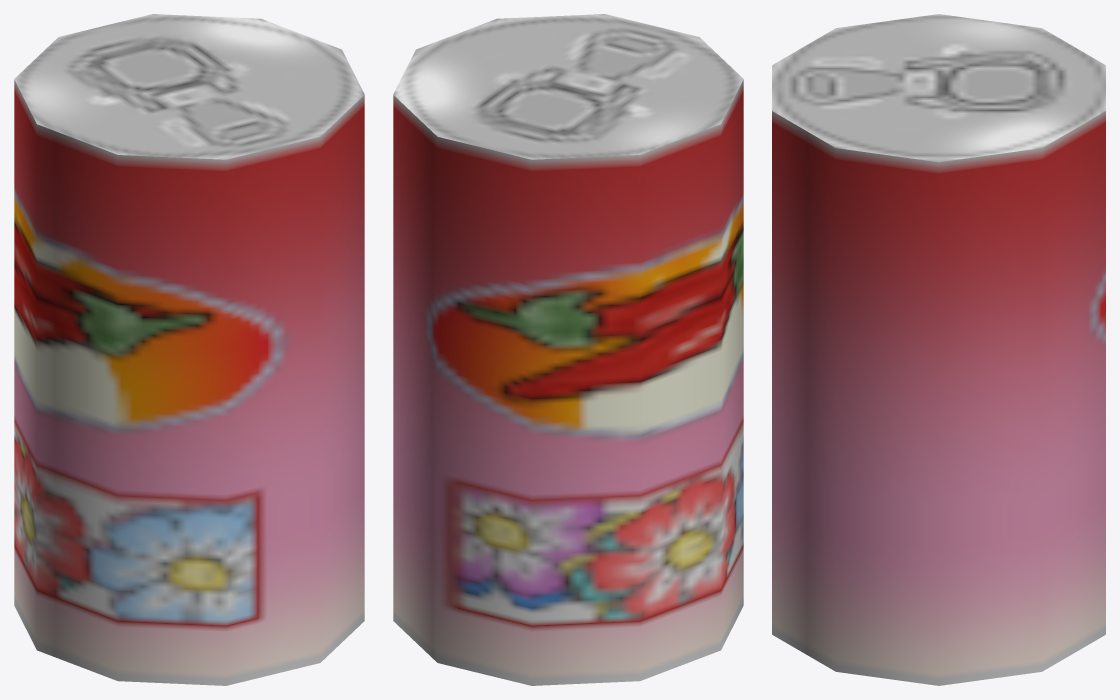
The model's file is giftgoods083e.fbx.
3 views of the same model, side by side, from view 1: azimuth 30°, elevation 25°; view 2: azimuth 150°, elevation 25°; view 3: azimuth 270°, elevation 25° (orthographic).
Parts seen in each view (by area): view 1: giftgoods083e; view 2: giftgoods083e; view 3: giftgoods083e.
Part boxes in pixels (x1=…): giftgoods083e: x1=14, y1=14, x2=364, y2=685; giftgoods083e: x1=393, y1=14, x2=743, y2=685; giftgoods083e: x1=772, y1=14, x2=1105, y2=685.
Size of the model in its own units: 0.0989 by 0.1628 by 0.094.
